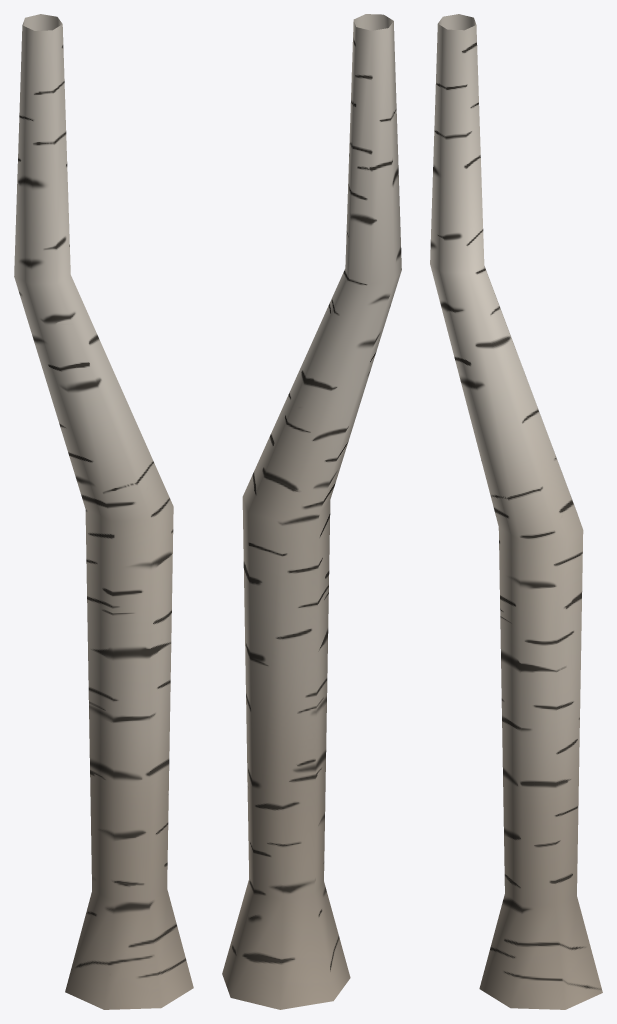
File: Tronco_3.fbx
3 renders of one model, left to right at view 1: azimuth 30°, elevation 25°; view 2: azimuth 150°, elevation 25°; view 3: azimuth 330°, elevation 25°, orthographic. The views are drawn at different scales.
Visible parts, largest first — view 1: Tronco_3; view 2: Tronco_3; view 3: Tronco_3.
Boxes of the visible parts, x1,y1,x2,y2 form: Tronco_3: (14, 14, 193, 1009); Tronco_3: (222, 14, 401, 1009); Tronco_3: (430, 14, 602, 1009).
Bounding box in the file's own units: 256 × 1435 × 167.
